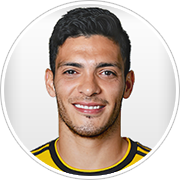face: (40, 50, 136, 129)
